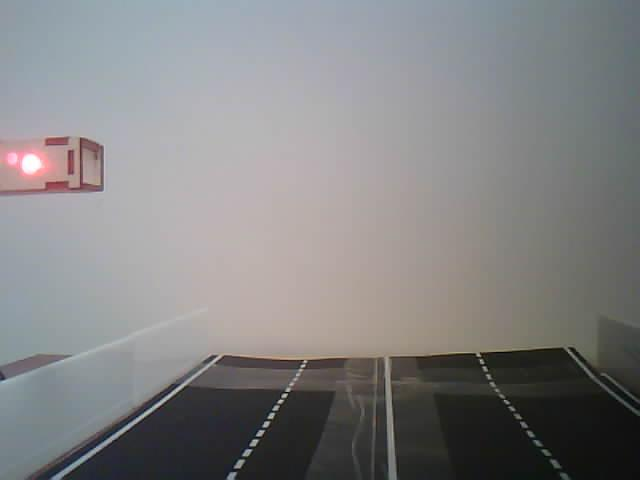red: (14, 140, 84, 213)
